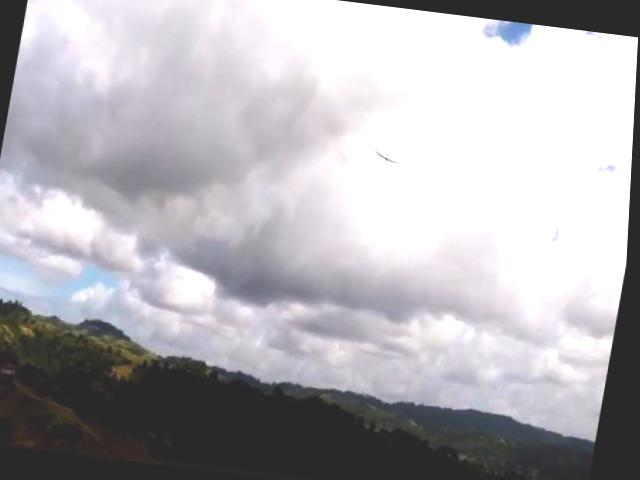iha: (372, 145, 404, 168)
